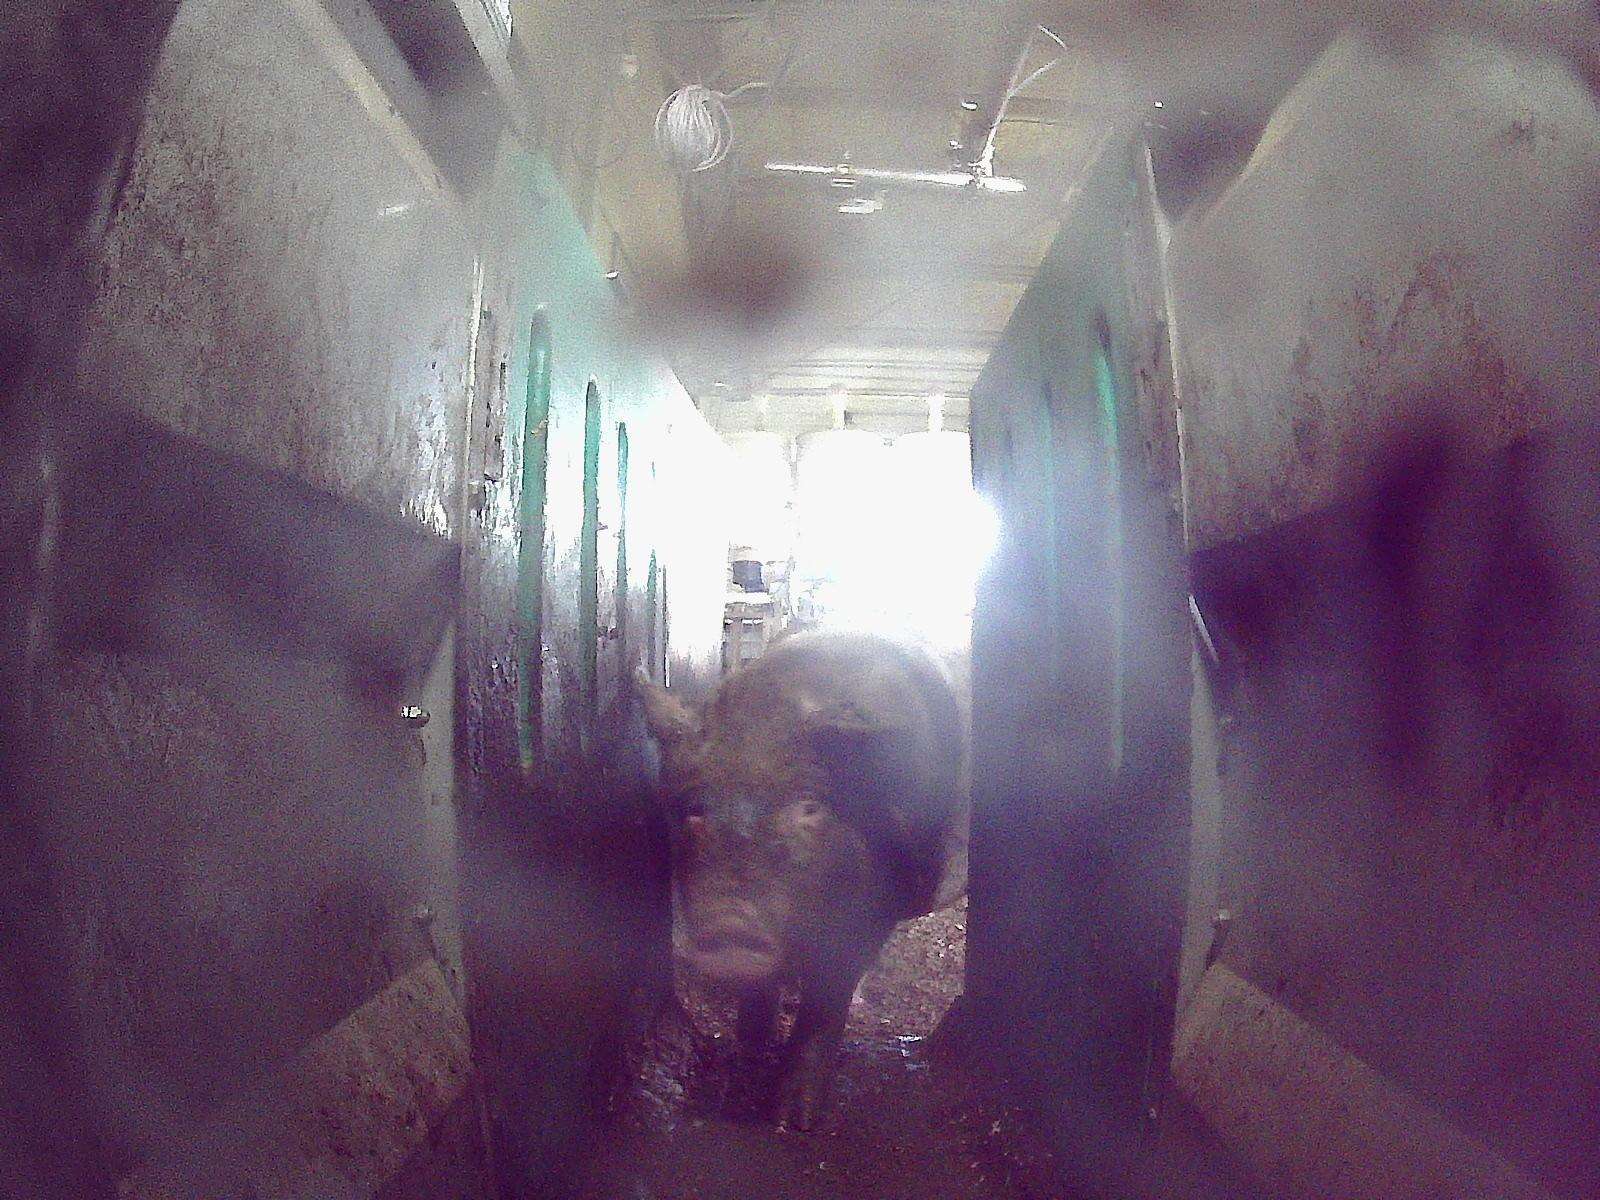Face: (660, 714, 847, 991)
